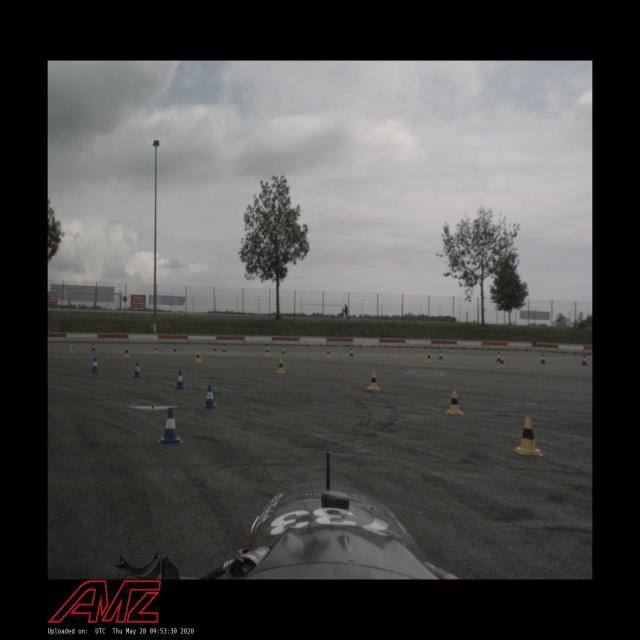blue_cone: (157, 407, 184, 445), (202, 385, 219, 410), (174, 370, 186, 390), (131, 361, 142, 378), (90, 357, 100, 372), (580, 354, 588, 366), (540, 353, 547, 364), (437, 350, 444, 360), (348, 347, 354, 357), (497, 351, 502, 362), (91, 342, 96, 352), (280, 346, 286, 354), (222, 345, 226, 353), (173, 344, 177, 352)
yellow_cone: (513, 416, 543, 456), (446, 391, 464, 415), (367, 372, 381, 392), (276, 358, 286, 374), (195, 350, 202, 363), (498, 358, 506, 368), (123, 347, 130, 358), (67, 343, 74, 354), (264, 346, 270, 356), (426, 352, 432, 362), (325, 348, 331, 357), (212, 345, 217, 355), (153, 344, 158, 354)
